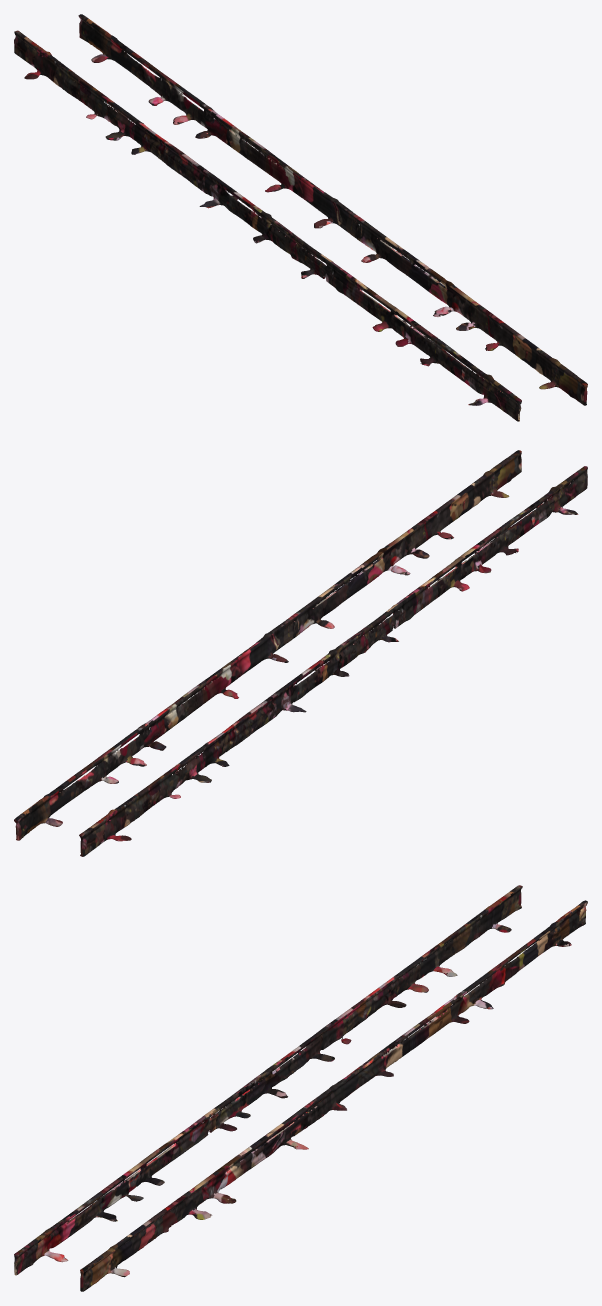
File: Railway.fbx
3 renders of one model, top to bottom at view 1: azimuth 30°, elevation 25°; view 2: azimuth 150°, elevation 25°; view 3: azimuth 330°, elevation 25°, orthographic.
Visible parts, largest first — view 1: Mesh1; view 2: Mesh1; view 3: Mesh1.
Boxes of the visible parts, box(x1,y1,x2,y2) form: Mesh1: box(14, 14, 587, 421); Mesh1: box(14, 450, 587, 856); Mesh1: box(14, 885, 587, 1291).
Size of the model in its own units: 25.2 by 5.69 by 201.
